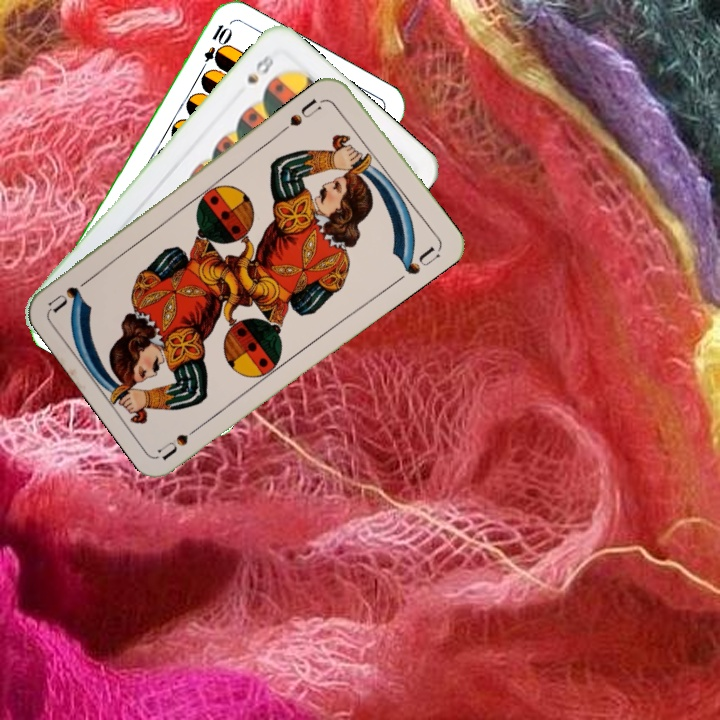E10: (195, 20, 232, 76)
S8: (243, 50, 277, 87)
SU: (155, 418, 208, 462), (278, 94, 324, 134)
